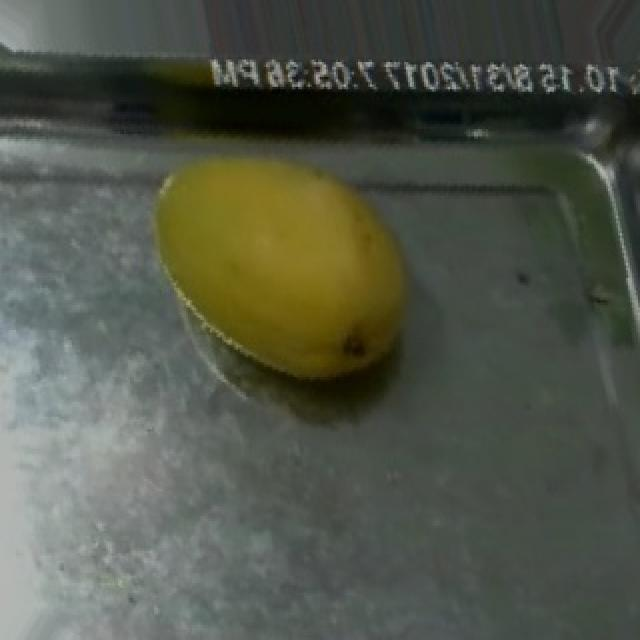fruit: (120, 111, 460, 406)
